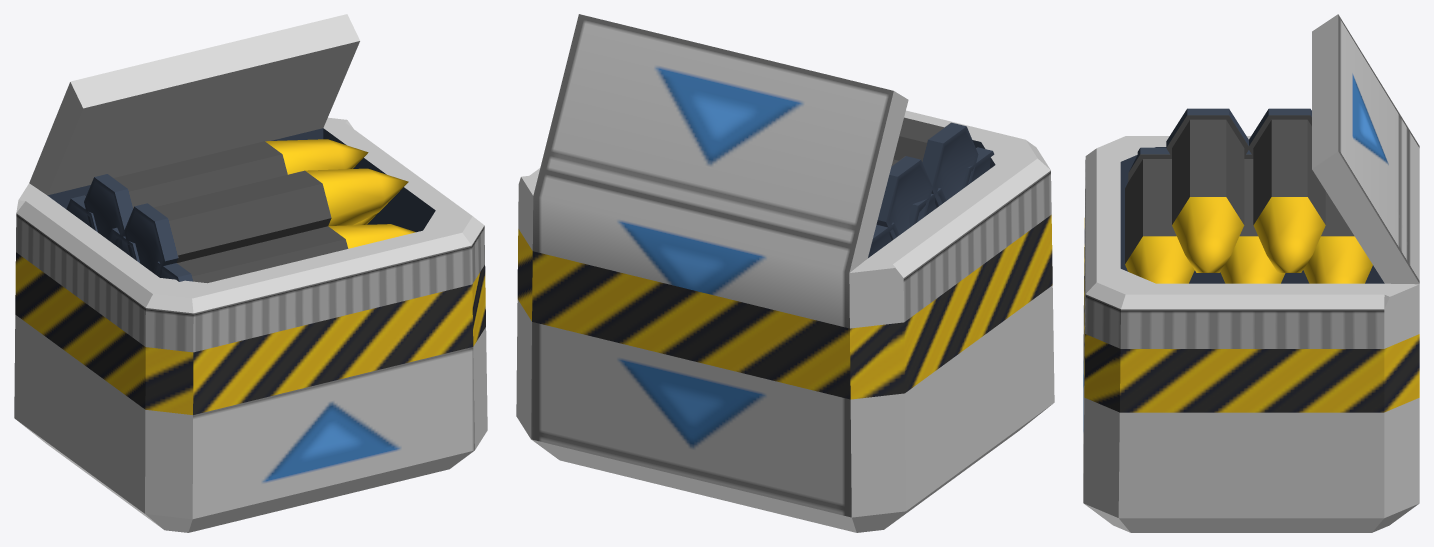
Rendered from Caisson.fbx.
3 views of the same model, side by side, from view 1: azimuth 30°, elevation 25°; view 2: azimuth 150°, elevation 25°; view 3: azimuth 270°, elevation 25° (orthographic). The views are drawn at different scales.
Visible parts, largest first — view 1: pCube3; view 2: pCube3; view 3: pCube3.
Part boxes in pixels (bbox=[...]): pCube3: bbox=[14, 14, 487, 532]; pCube3: bbox=[516, 14, 1054, 532]; pCube3: bbox=[1083, 14, 1419, 532].
Bounding box in the file's own units: 1.02 × 1.06 × 0.8537.
